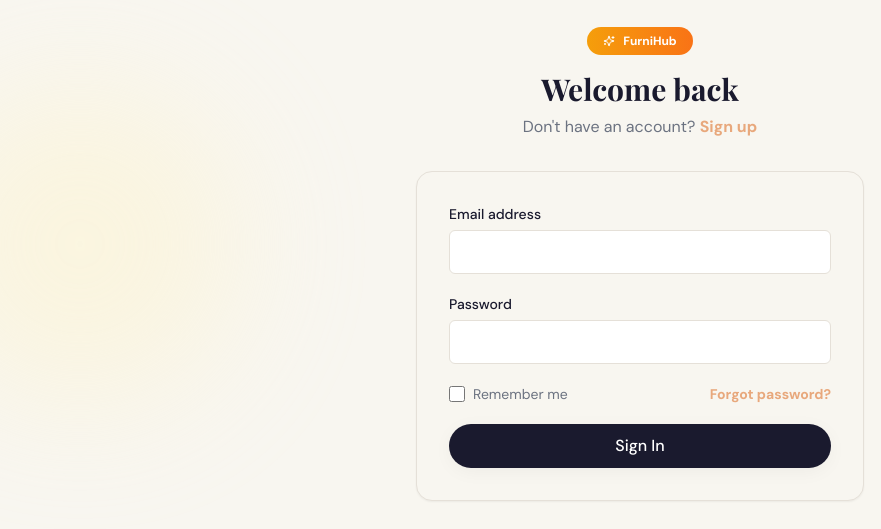
Test case: Auth Components › Login Form › shows validation error when password < 6 chars
Type "test@test.com" into the field labelled "Email address" at (640, 252), box left=449, top=230, right=831, bottom=274
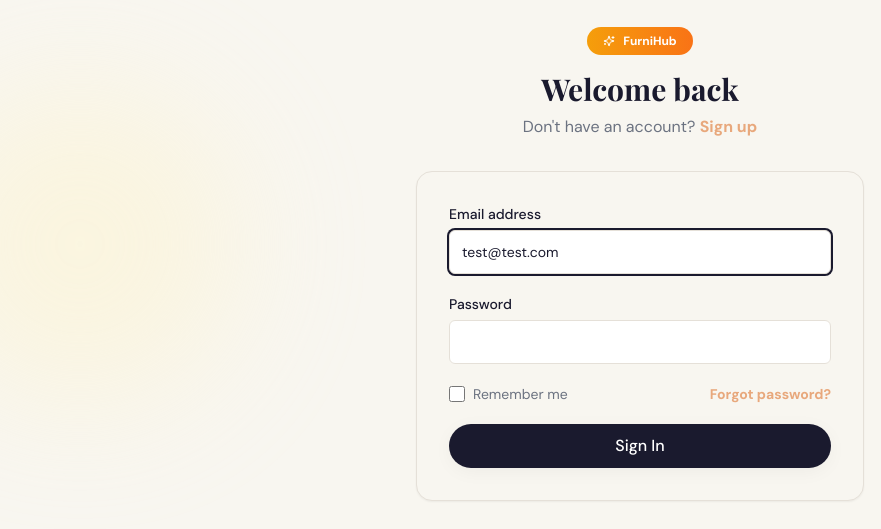
Note: Enter nothing in password or just space
Click the button "Sign In" at (640, 446), box left=449, top=424, right=831, bottom=468
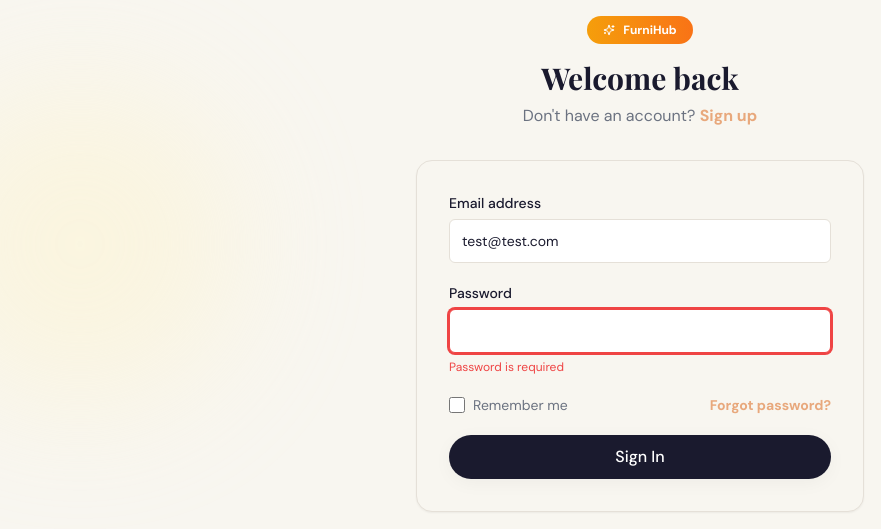
Result: the text "Password is required" is shown at left=449, top=359, right=564, bottom=375
